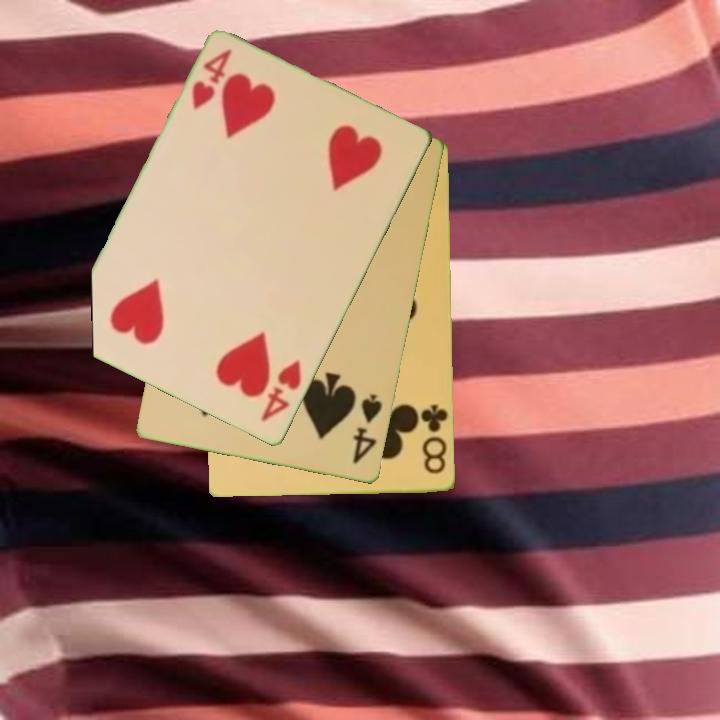4h: (257, 357, 305, 425), (188, 46, 236, 114)
4s: (349, 391, 386, 467)
8c: (418, 401, 451, 478)
